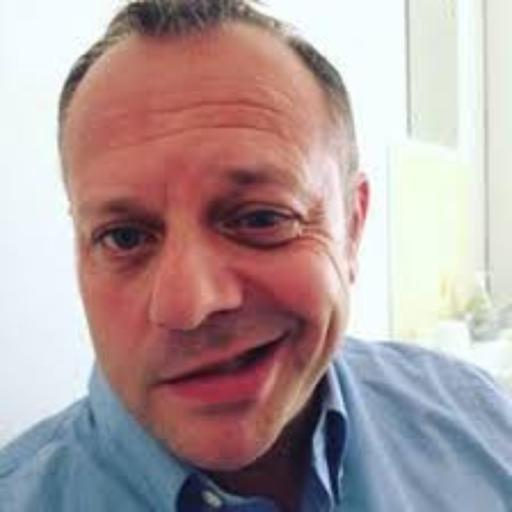left_eye: (223, 208, 303, 236)
left_lip_corner: (261, 328, 295, 355)
right_eye: (95, 225, 162, 256)
right_lip_corner: (150, 373, 177, 393)
